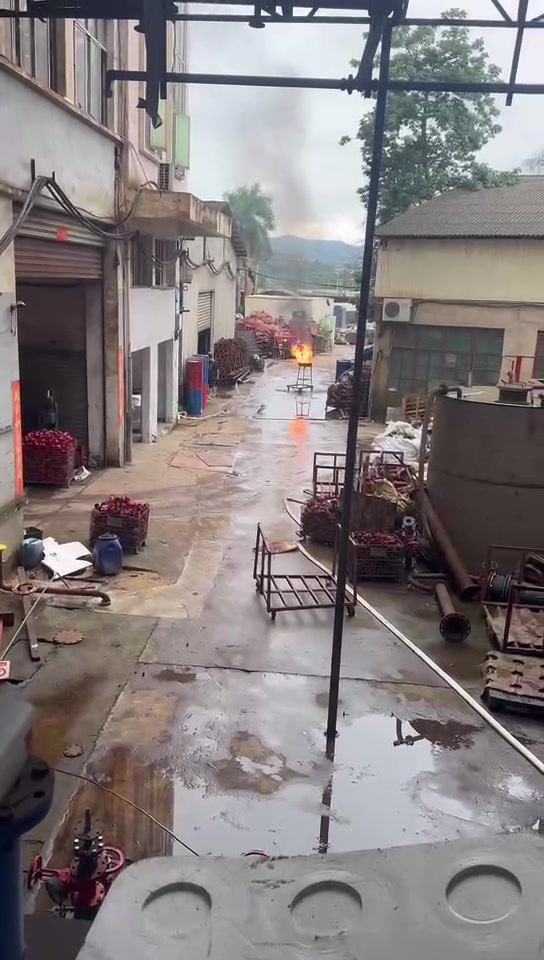fire: (291, 344, 313, 363)
